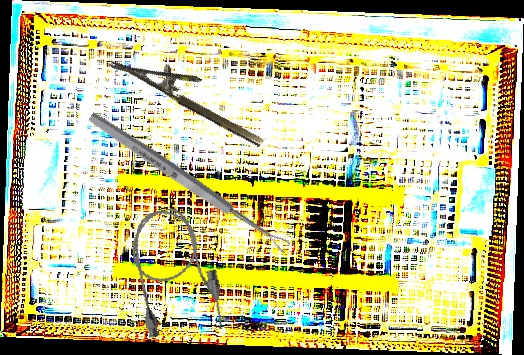Cannula: (121, 201, 230, 346)
Needle Holder: (107, 36, 276, 149)
Surgical Spoon: (86, 109, 292, 256)
